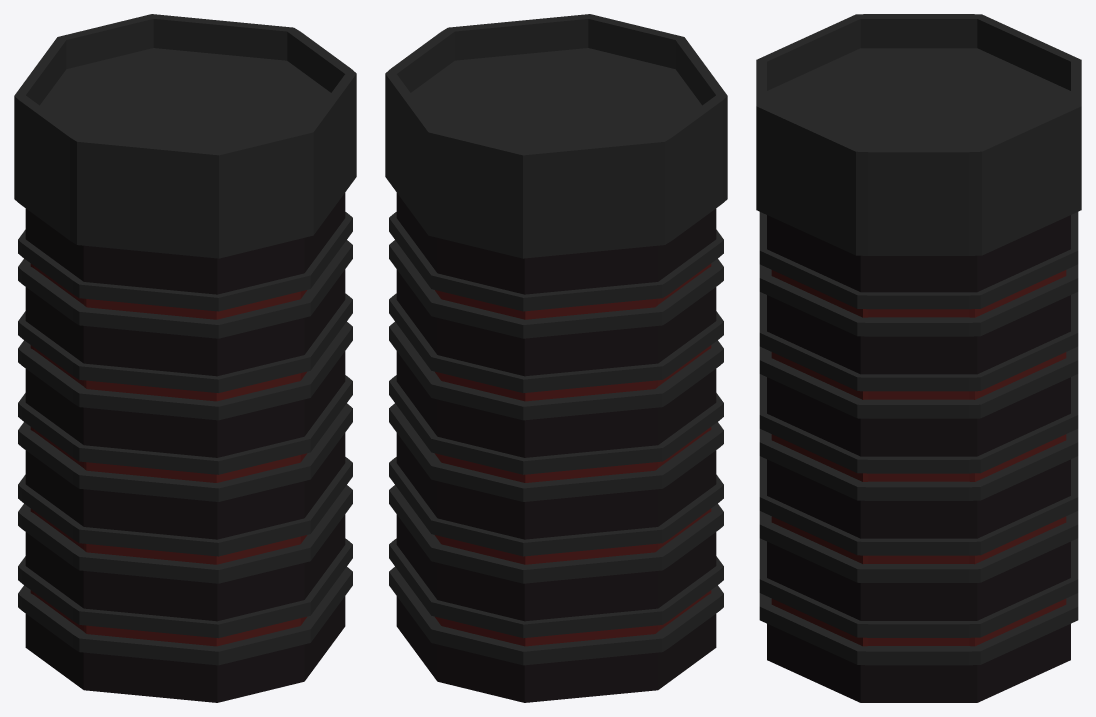
File: tour.fbx
3 renders of one model, left to right at view 1: azimuth 30°, elevation 25°; view 2: azimuth 150°, elevation 25°; view 3: azimuth 270°, elevation 25°, orthographic.
Visible parts, largest first — view 1: 4; view 2: 4; view 3: 4.
Part boxes in pixels (x1,y1,x2,y2): 4: [14, 14, 356, 702]; 4: [385, 14, 727, 702]; 4: [756, 14, 1081, 702].
Size of the model in its own units: 215 by 404 by 214.
